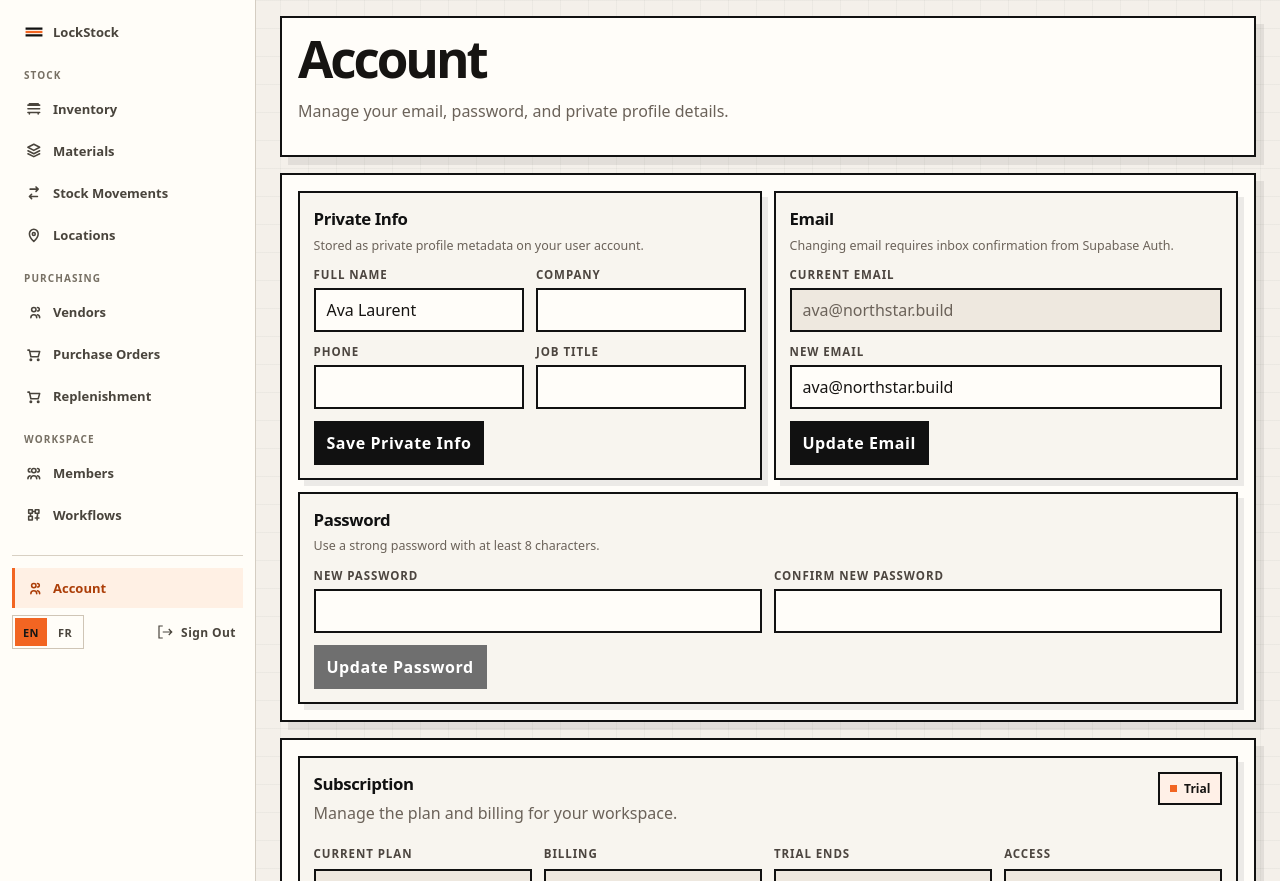
Test: LockstockAccount › shows password validation and server failures beside the form
This screenshot has width=1280, height=881.
In the password field labelled "New Password": x=538, y=611 [314, 589, 762, 633], type "new-password-123"
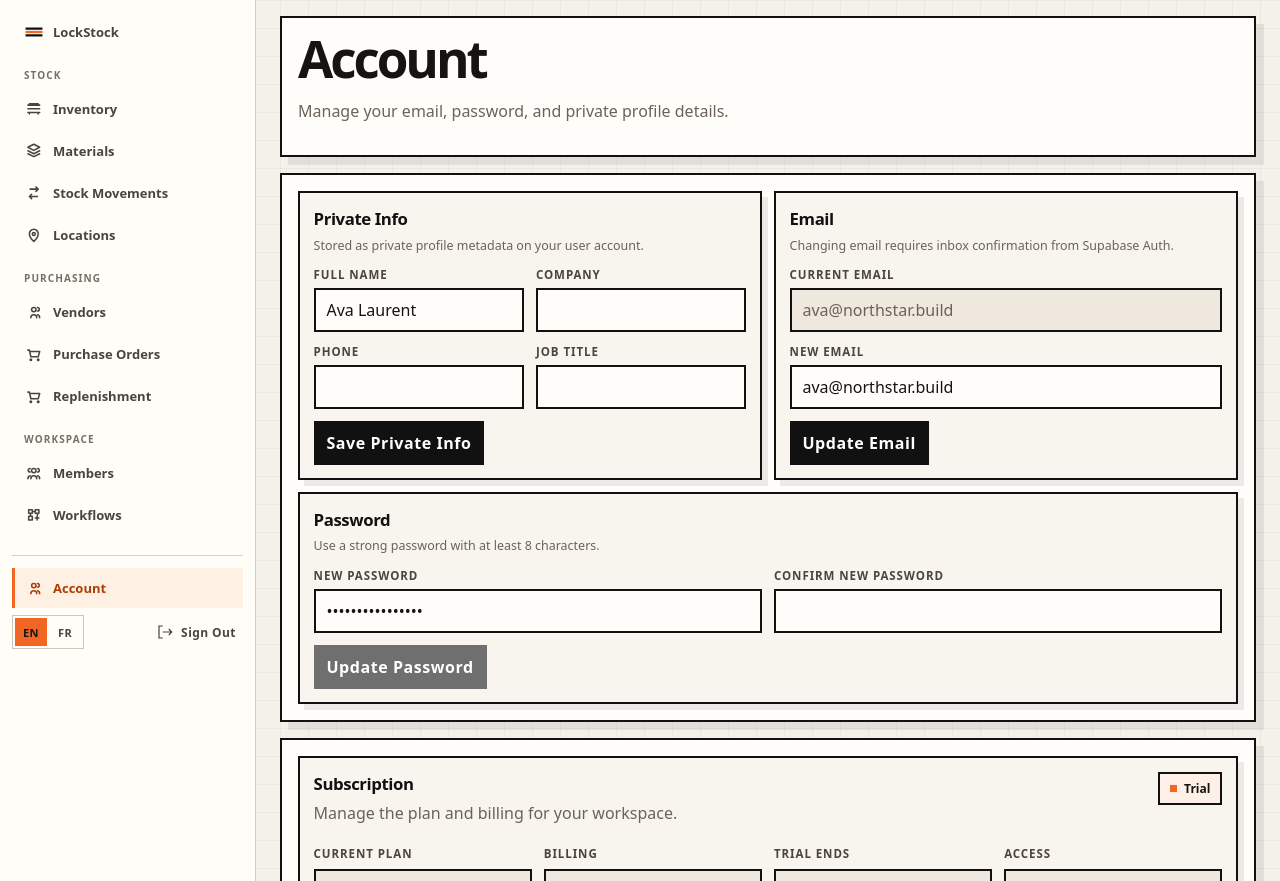
In the password field labelled "Confirm New Password": x=998, y=611 [774, 589, 1222, 633], type "different-password"
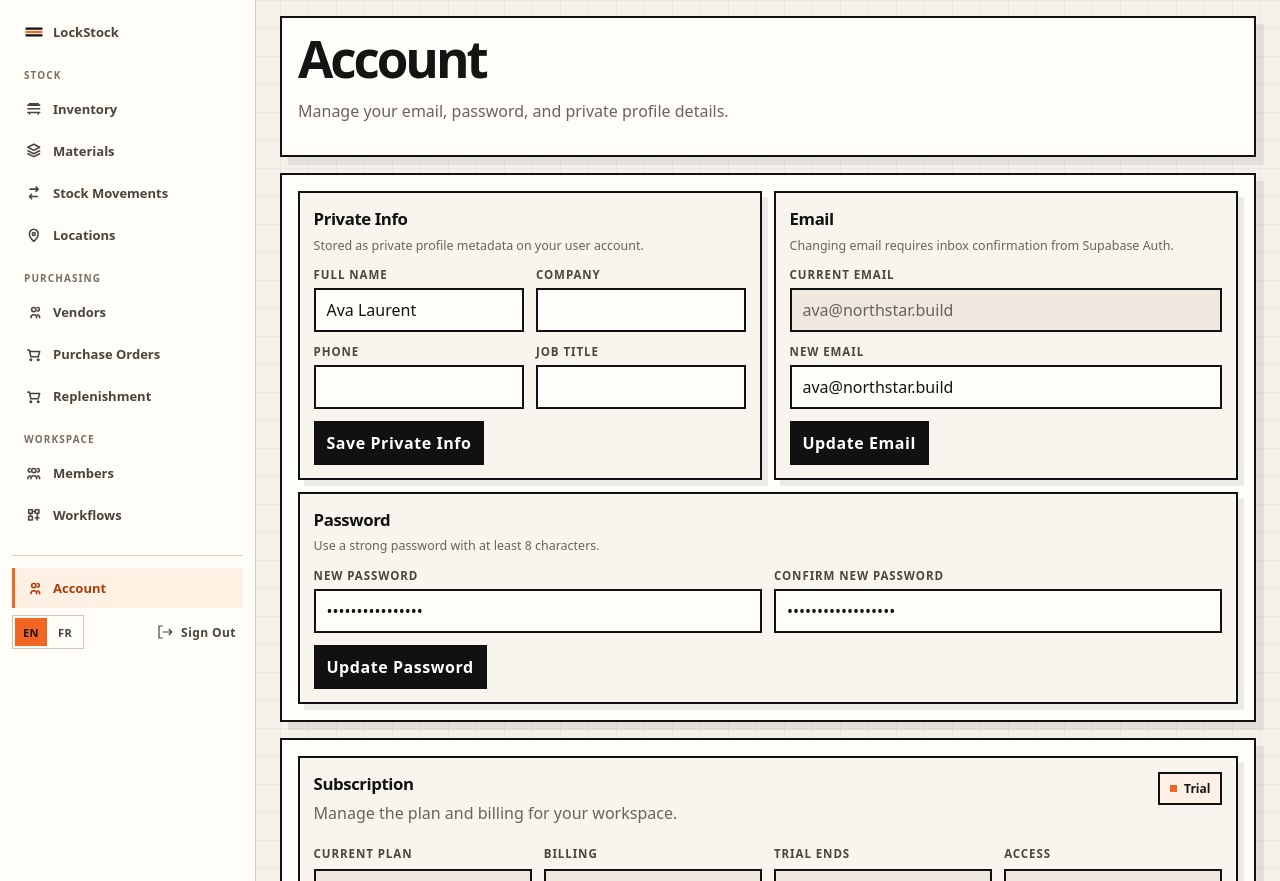
Now the button "Update Password" is enabled
Click the button "Update Password": x=400, y=667 [314, 645, 487, 689]
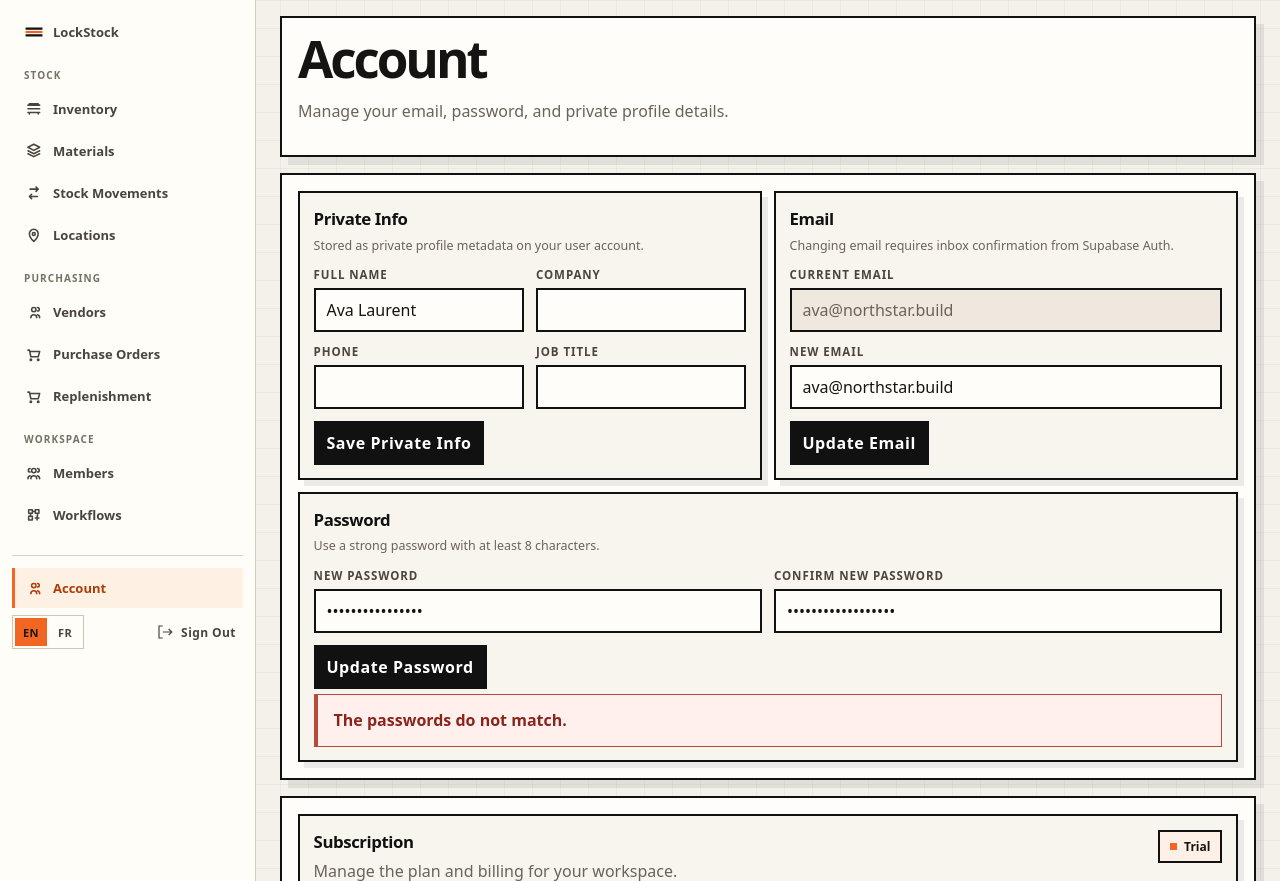
Now the message shows "passwords do not match", box [334, 709, 567, 731]
In the password field labelled "Confirm New Password": x=998, y=611 [774, 589, 1222, 633], type "new-password-123"
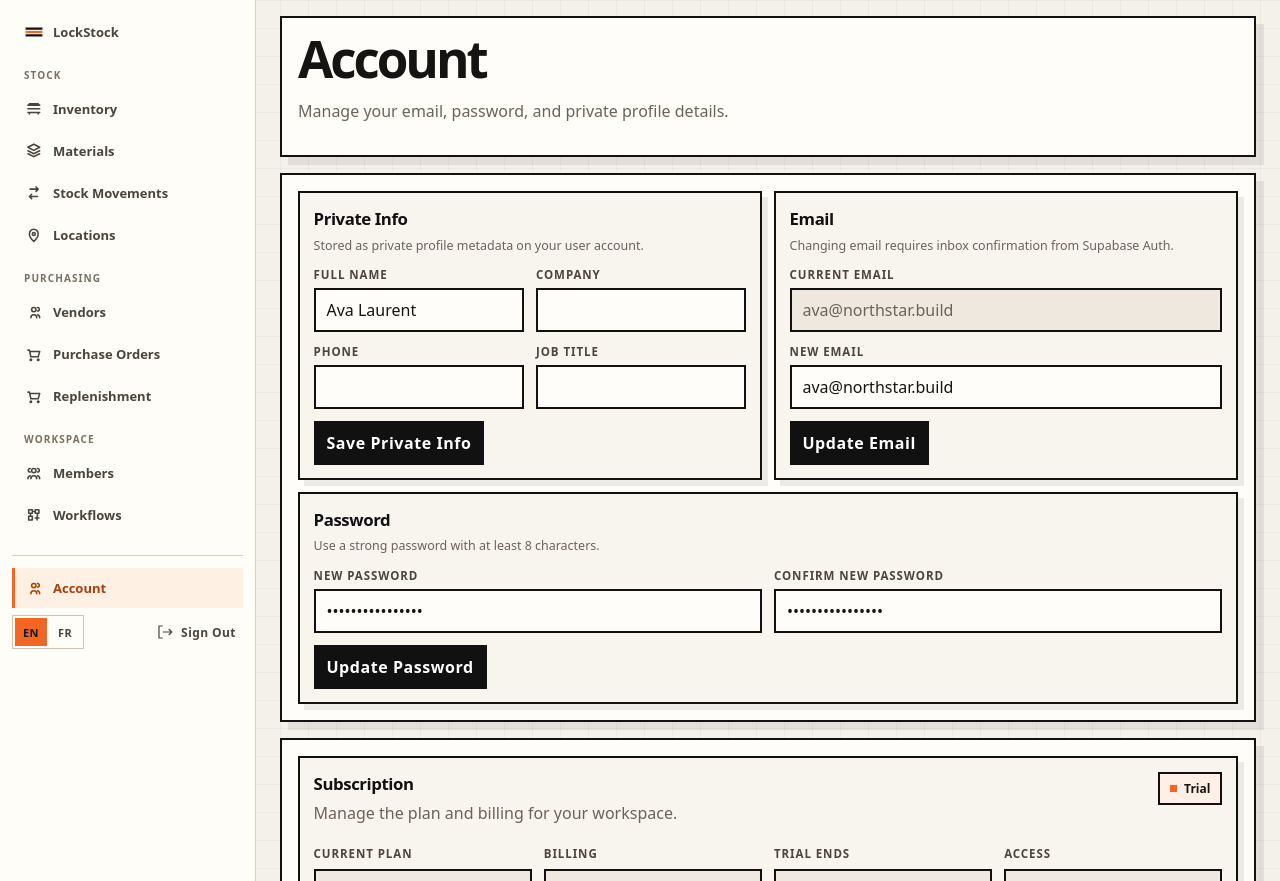
Now the message "The passwords do not match." is gone
Click the button "Update Password": x=400, y=667 [314, 645, 487, 689]
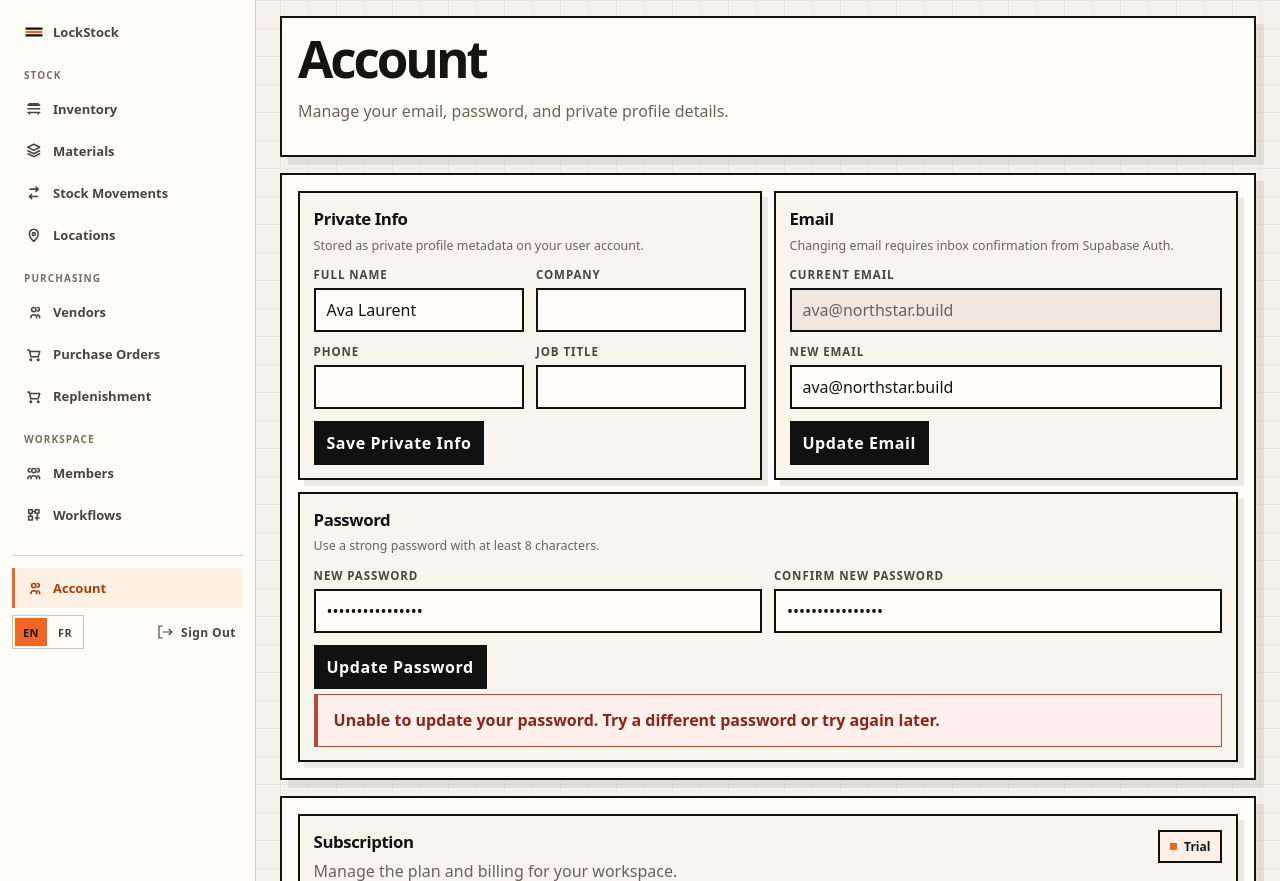
Now the message shows "Unable to update", box [334, 709, 940, 731]
